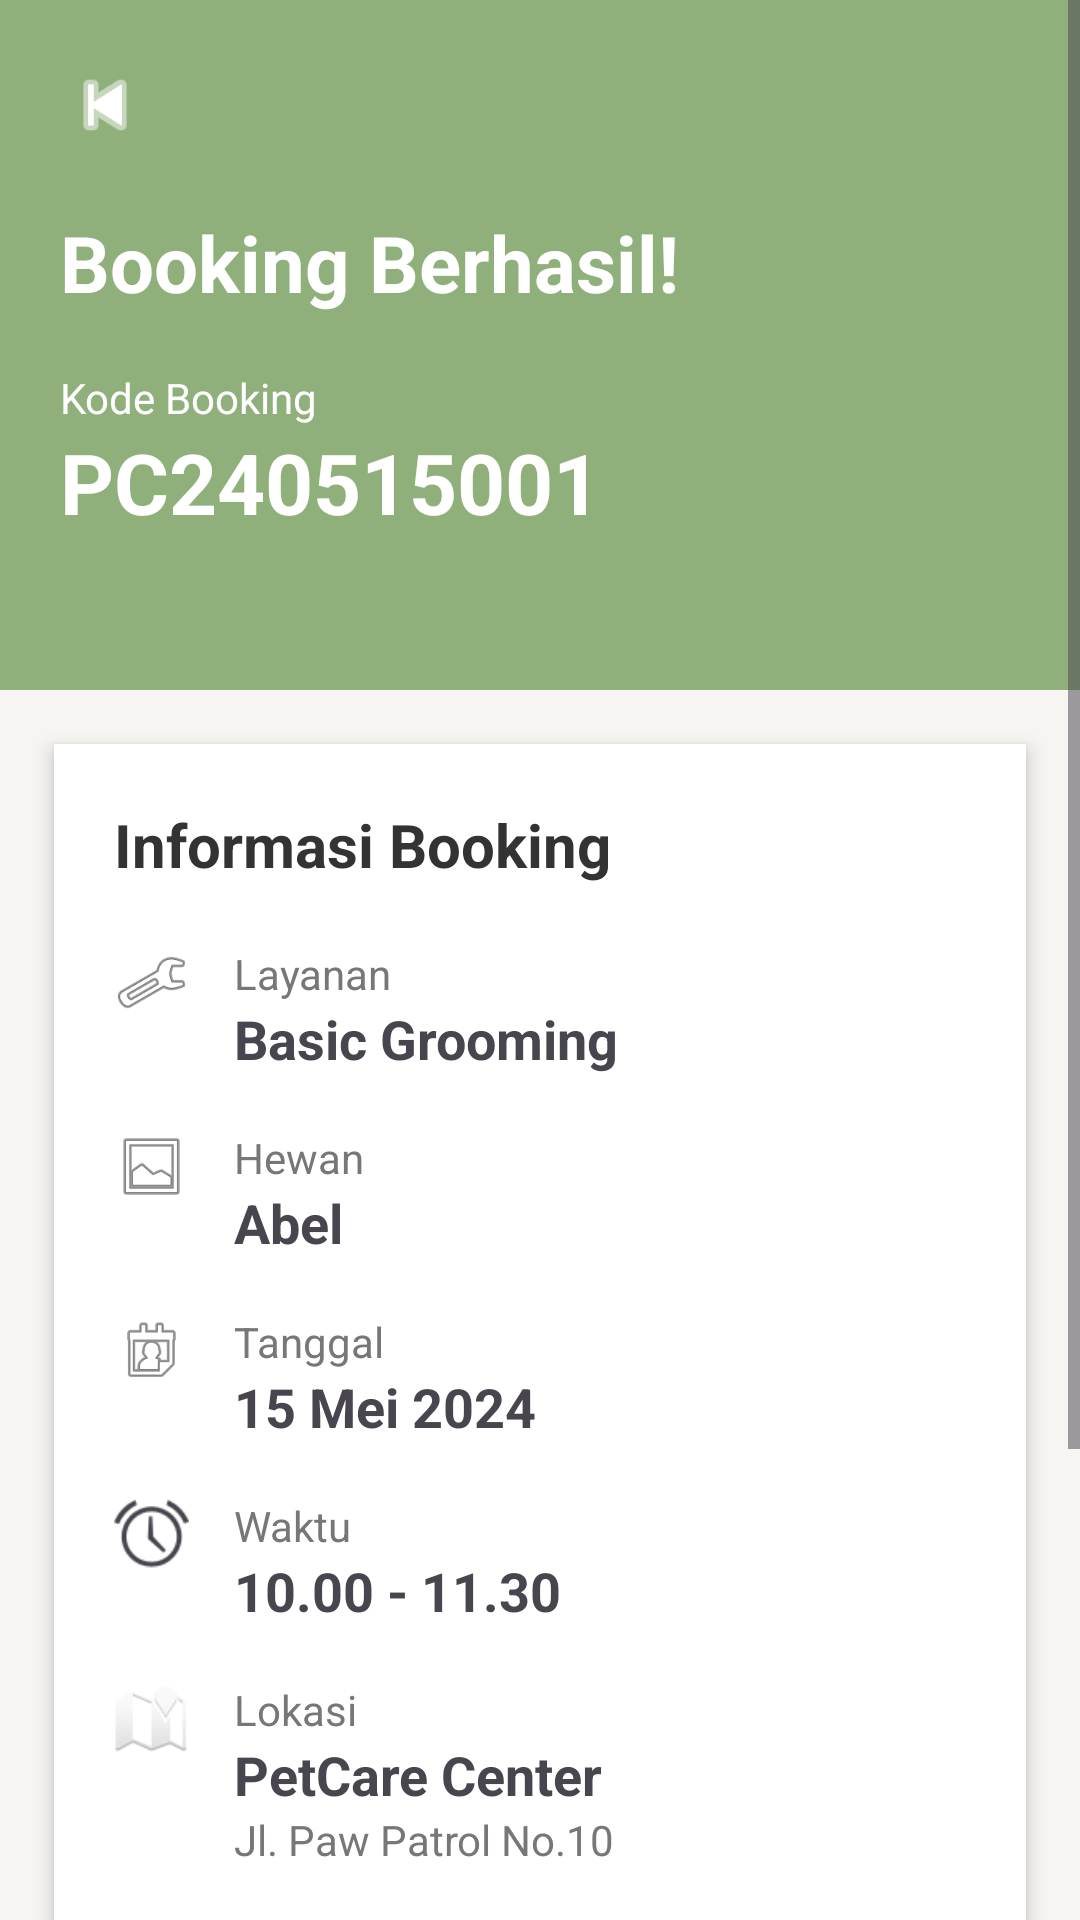

Icon click points for this 1080px x 1920px phone screenshot, format (x,y):
calendar: (151,1349)
gallery: (151,1166)
lock idle alarm: (151,1534)
manage: (151,982)
map: (150,1722)
previous: (105,105)
